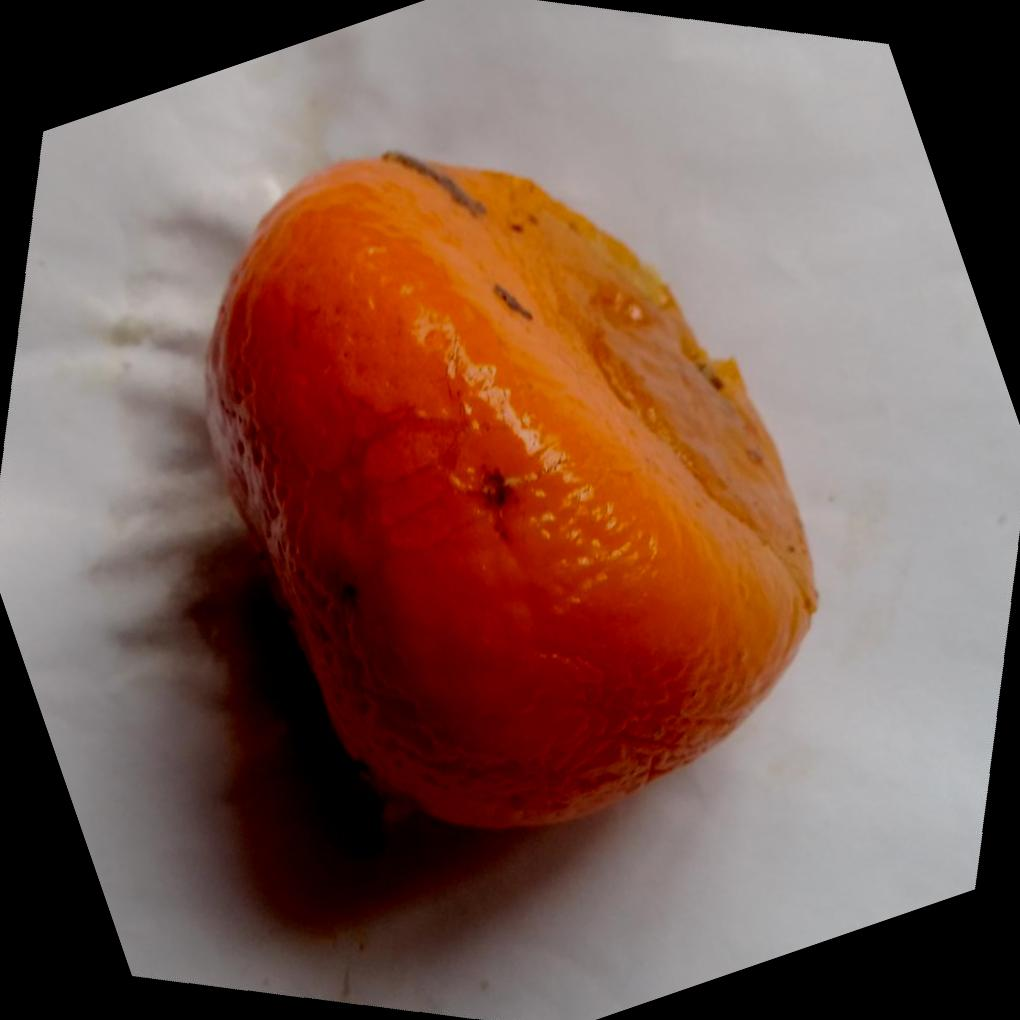FreshOrange: (197, 150, 817, 835)
